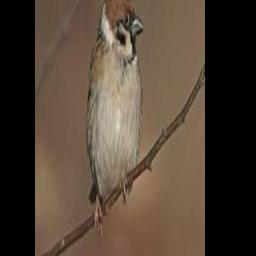Sparrow: (87, 0, 145, 234)
